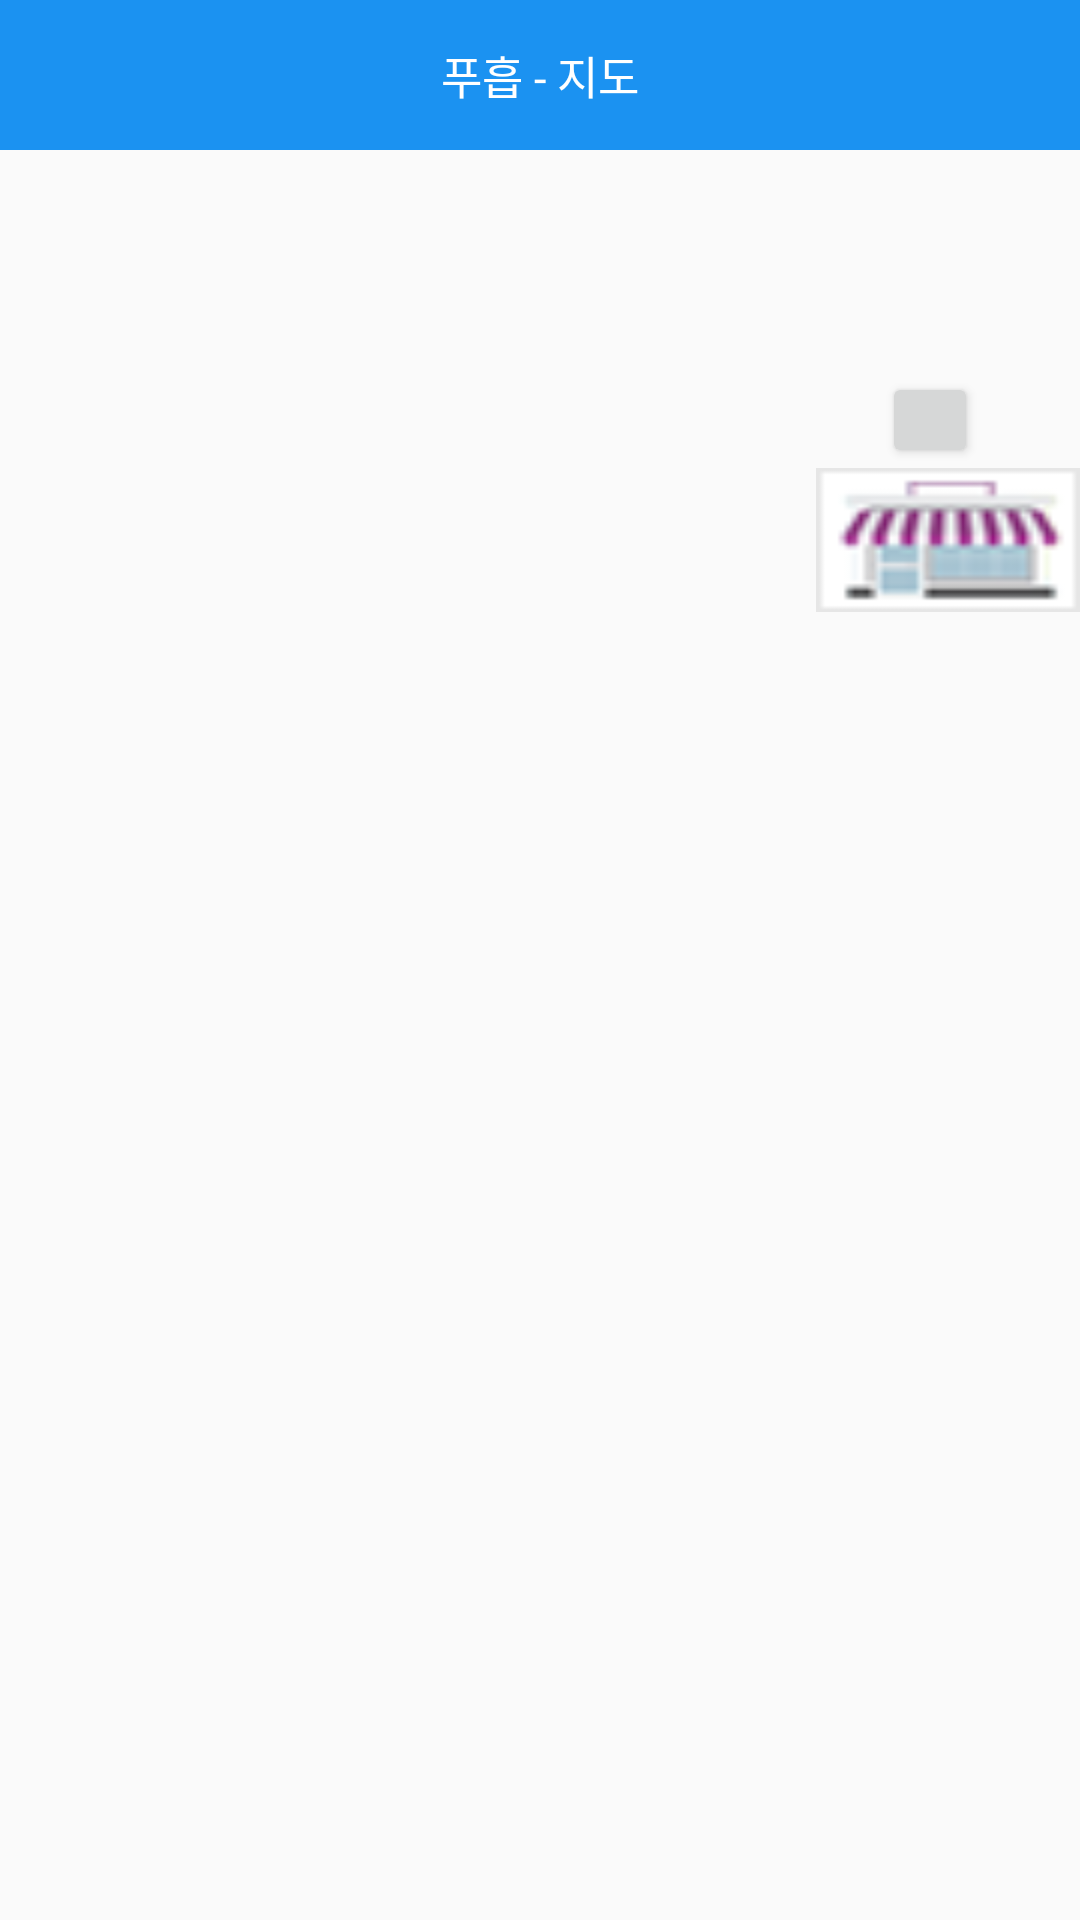

Named icons in this screenshot (1080×1920) and their bounding boxes, box(x1, y1, x2, y2):
storesearch: box(839, 480, 1061, 600)
